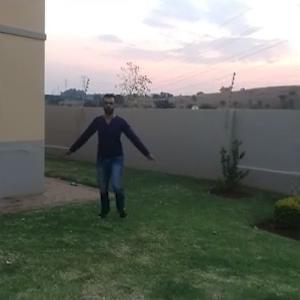land: (68, 92, 165, 216)
